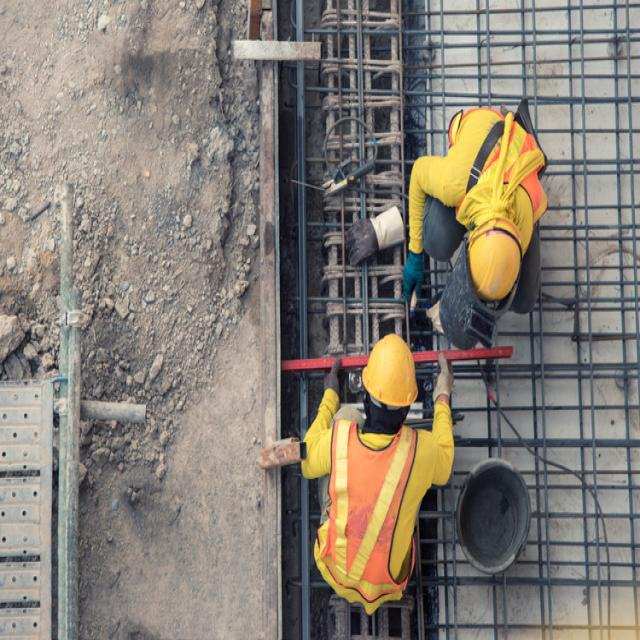gloves: (345, 204, 406, 260), (403, 250, 425, 310), (432, 352, 456, 402), (322, 358, 344, 398)
helmet: (466, 213, 524, 303), (362, 332, 420, 410)
vest: (324, 418, 411, 600), (449, 107, 548, 217)
